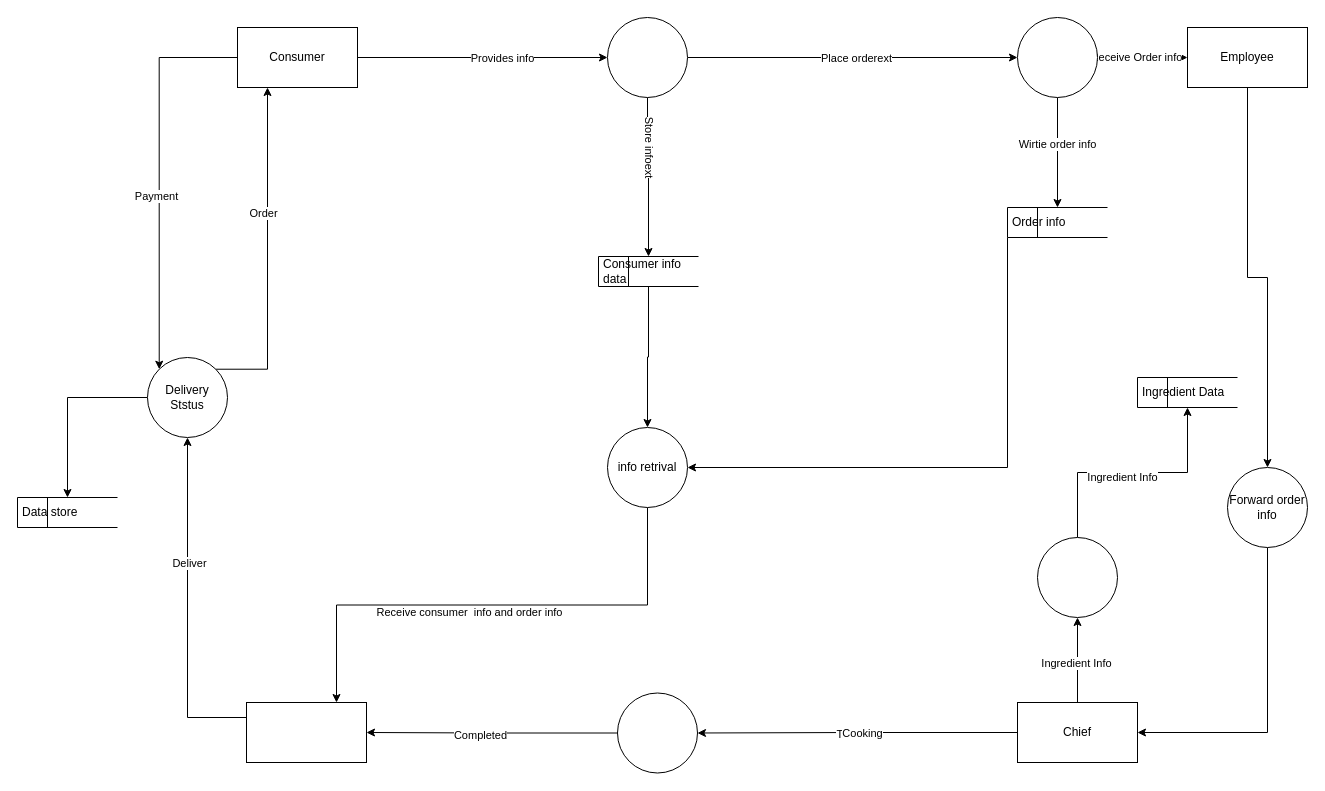
Some shapes in this 1325 by 791 pixel diagram are drawn without their labels. The shapes that lost their labels are listed below. From the top down, each one's centre as x and y in pixels, then its label:
At (x=647, y=57): "1 Consumer Info".
At (x=1057, y=57): "2. Order".
At (x=1077, y=577): "Ingredient record".
At (x=306, y=732): "Delivery Person".
At (x=657, y=732): "Status of order".
